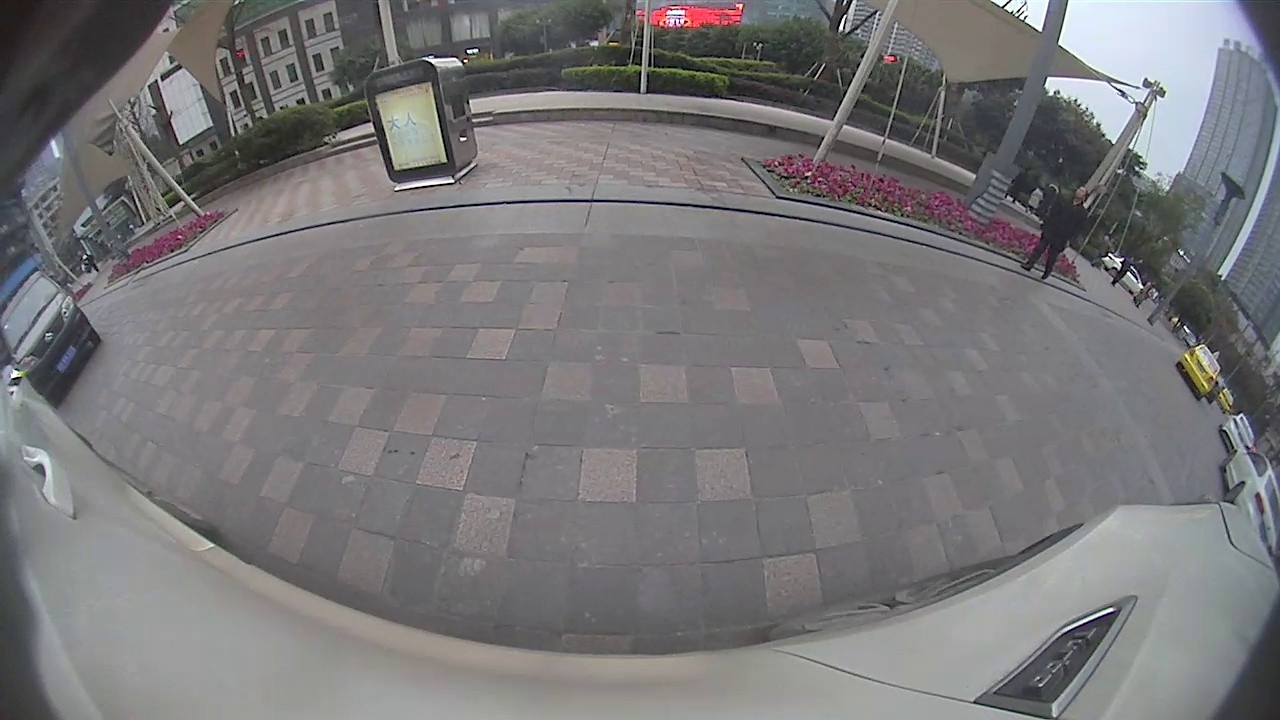car: (1, 269, 102, 406), (1174, 343, 1222, 402)
person: (1037, 183, 1088, 282)
